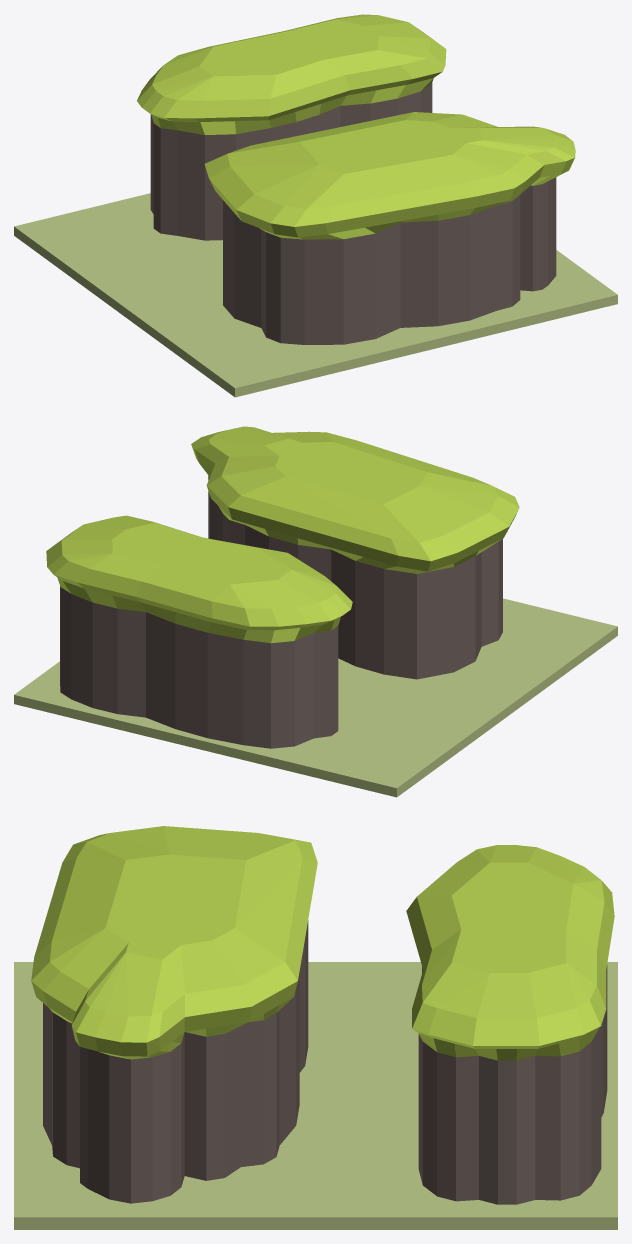
The model's file is Forest II.fbx.
3 views of the same model, one above another, from view 1: azimuth 30°, elevation 25°; view 2: azimuth 150°, elevation 25°; view 3: azimuth 270°, elevation 25° (orthographic). The views are drawn at different scales.
Parts seen in each view (by area): view 1: Forest II; view 2: Forest II; view 3: Forest II.
Part boxes in pixels (x1,y1,x2,y2): Forest II: (14,14,617,397); Forest II: (14,426,617,797); Forest II: (14,826,617,1229).
Size of the model in its own units: 1600 by 627 by 1600.
